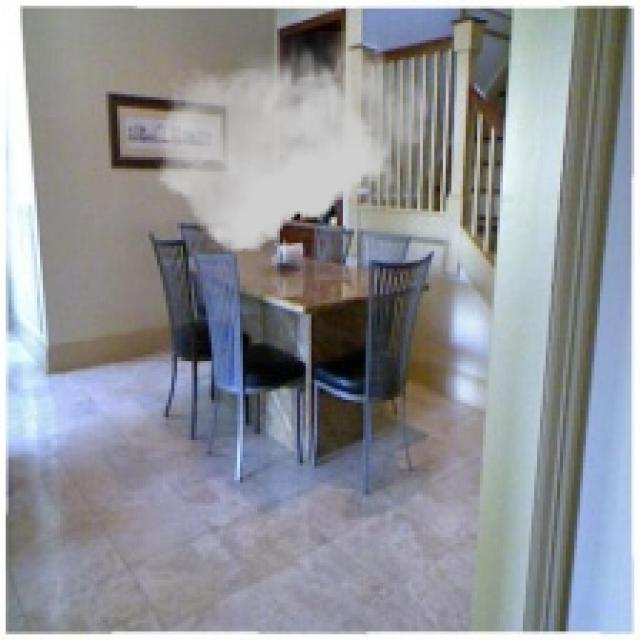smoke: (154, 32, 429, 252)
